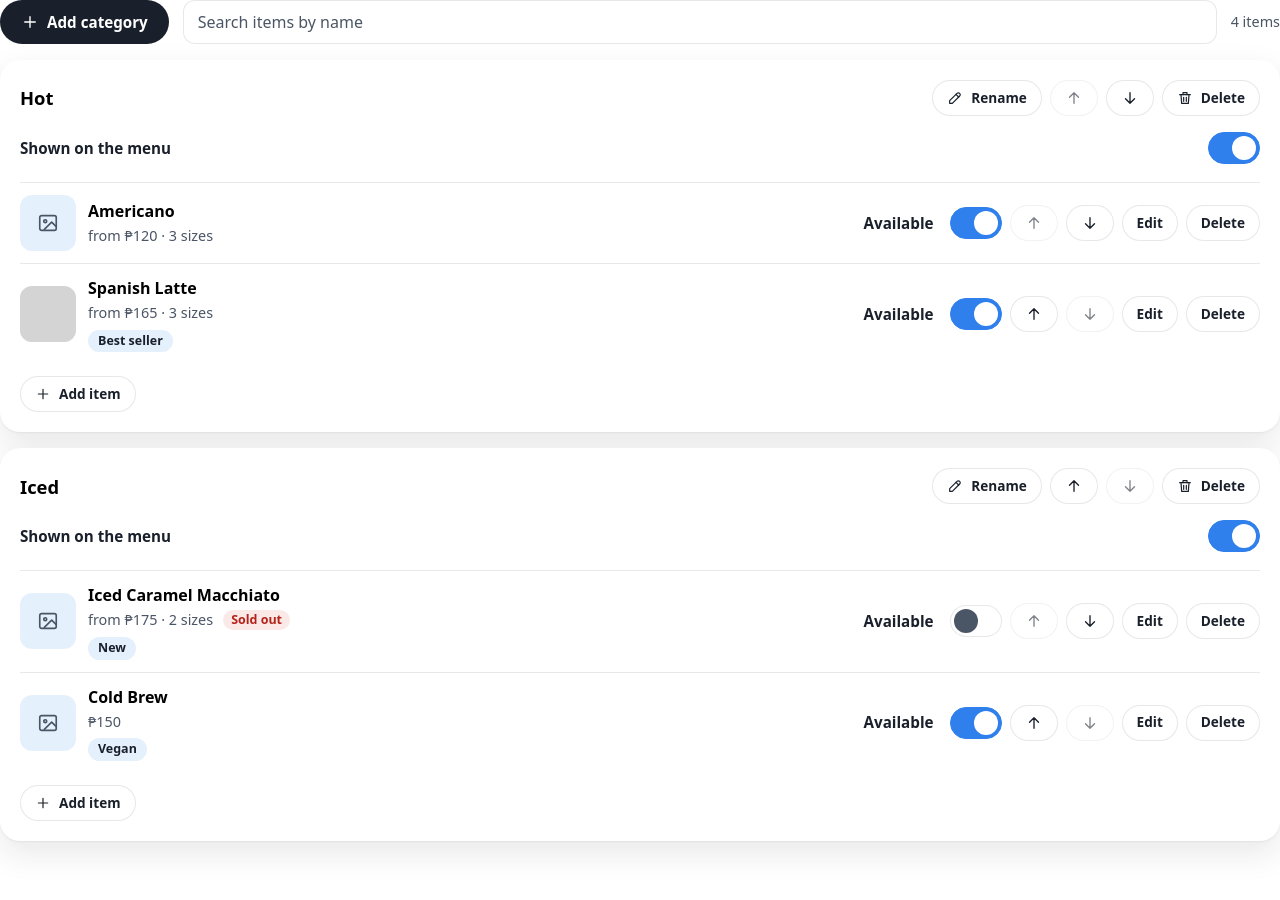
Test case: the search box › gets the focus when the only item a search found is deleted
Type "cold brew" into the search field at [700, 22], box [183,0,1217,44]
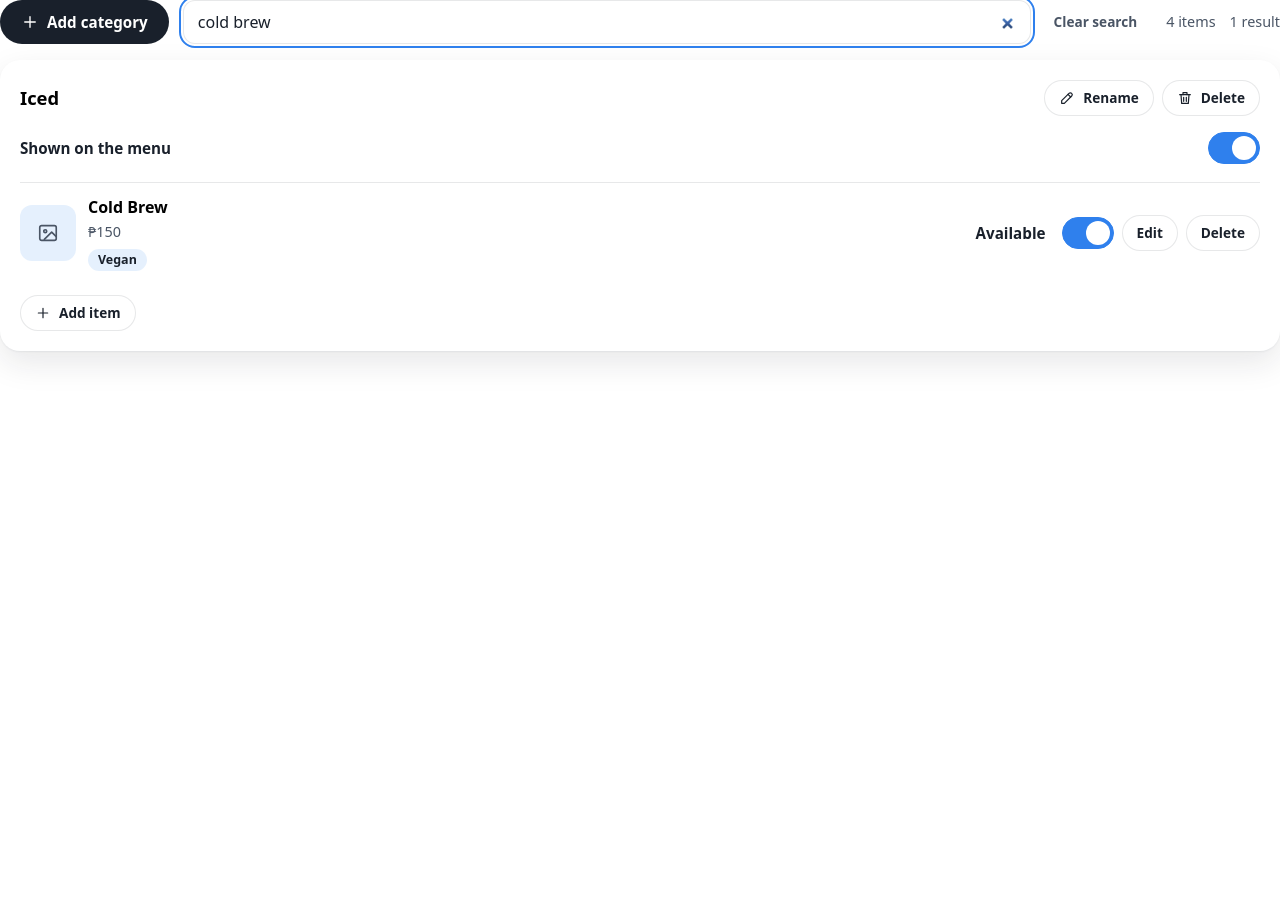
Click the button with aria-label "Delete Cold Brew" at [1223, 233], box [1186,215,1260,251]
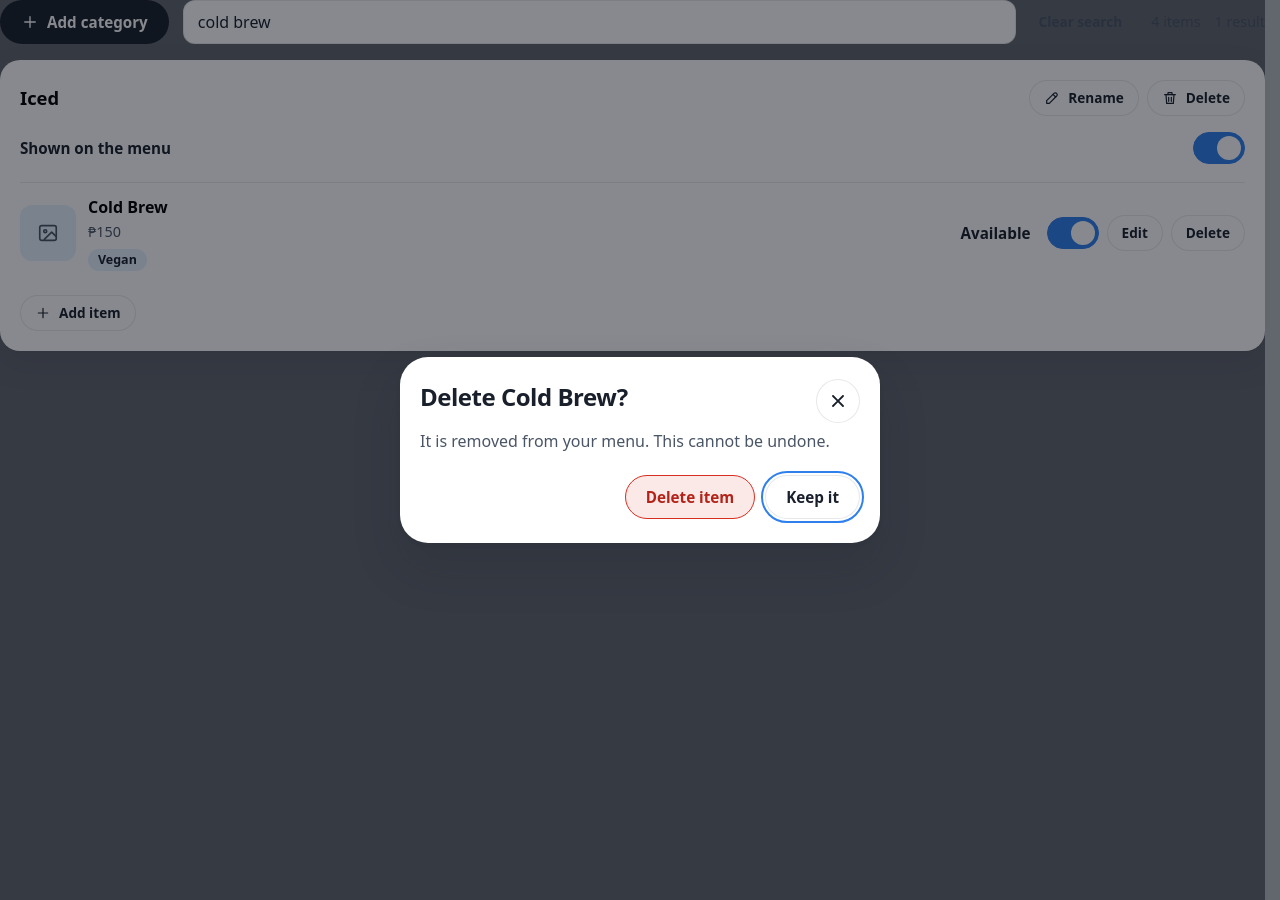
Click the button "Delete item" at [690, 497], box [625,475,755,519]
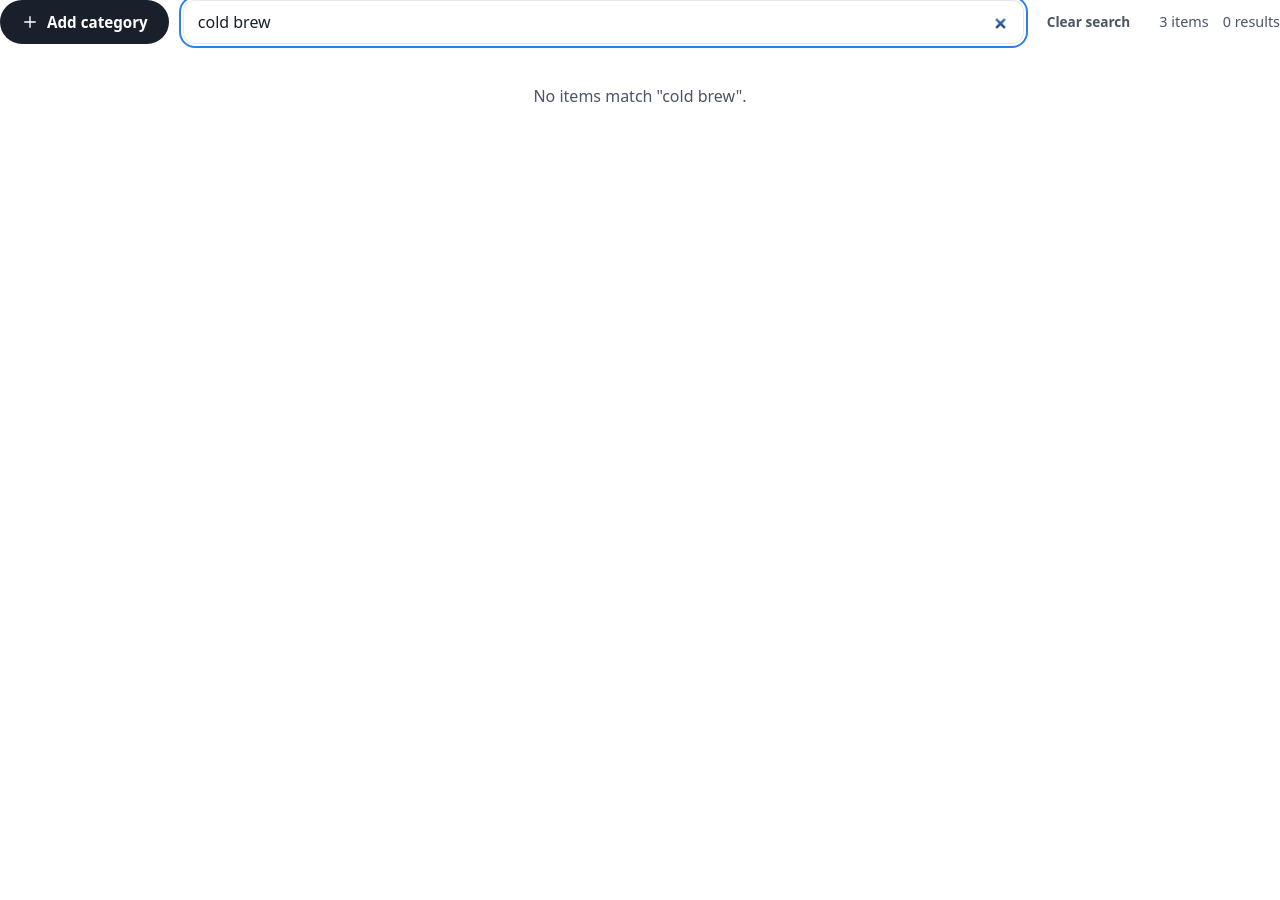
Check: the text "No items match \"cold brew\"." is shown, box [534,85,747,107]
